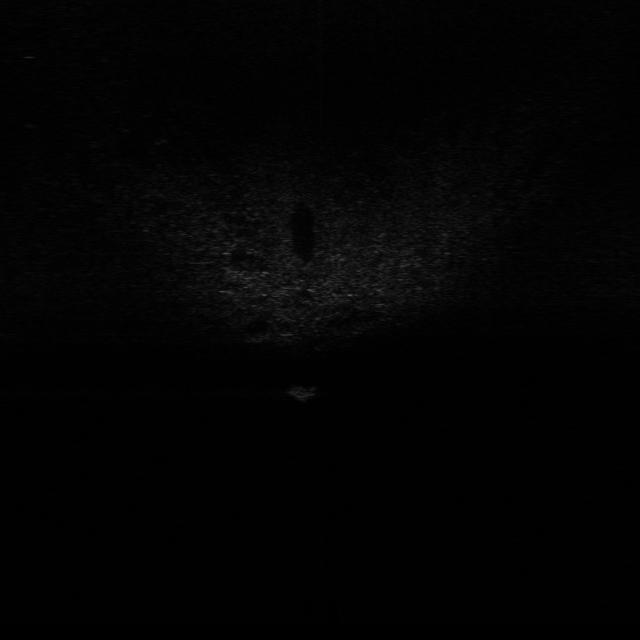cube: (288, 381, 322, 404)
